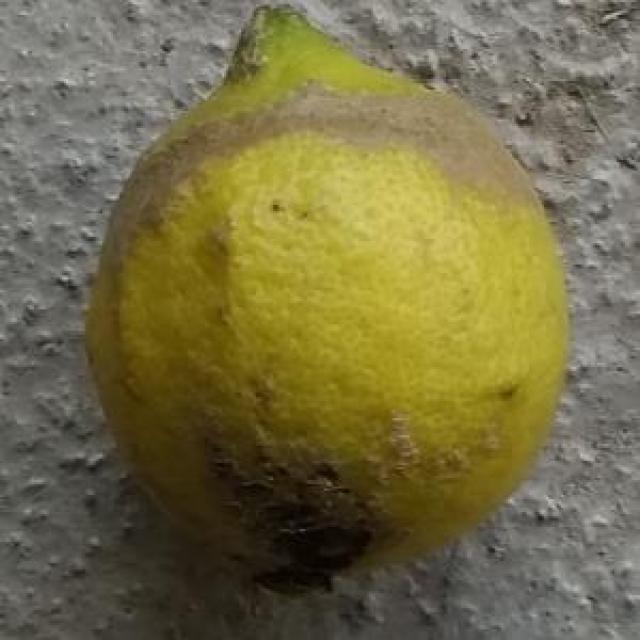lemon: (87, 10, 576, 590)
